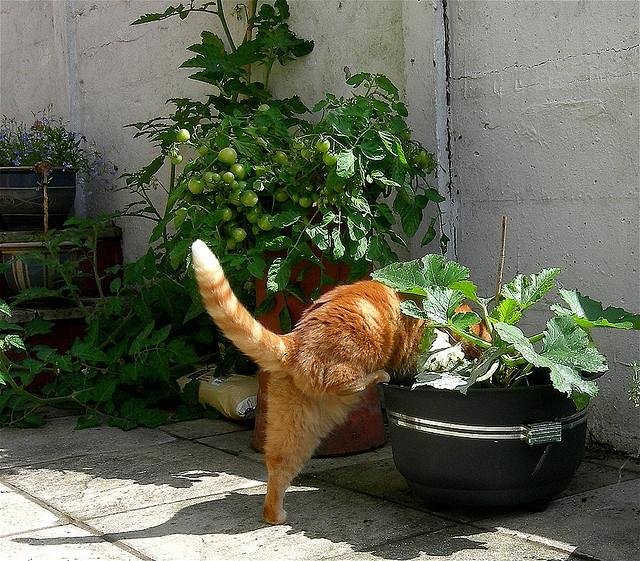tomato: (171, 125, 190, 143), (218, 147, 236, 166), (246, 206, 264, 224), (230, 164, 248, 182), (240, 190, 258, 207), (188, 176, 204, 195), (202, 171, 218, 189), (256, 213, 272, 231), (322, 151, 338, 166), (272, 152, 288, 166), (231, 228, 247, 242), (316, 138, 331, 152), (168, 151, 182, 164), (276, 188, 290, 201), (420, 151, 430, 166), (300, 196, 312, 208), (226, 237, 237, 250), (222, 207, 232, 221), (223, 172, 234, 183), (301, 148, 312, 159), (252, 224, 262, 236), (411, 154, 422, 164), (399, 130, 412, 138), (198, 144, 208, 154), (294, 141, 304, 150), (258, 104, 270, 111), (237, 181, 247, 189), (258, 126, 268, 134), (334, 183, 342, 193), (230, 199, 242, 205), (230, 181, 238, 189), (312, 193, 320, 201), (212, 174, 220, 182), (292, 194, 299, 202), (306, 185, 314, 192), (324, 186, 330, 195), (323, 198, 329, 205), (332, 198, 337, 201)
